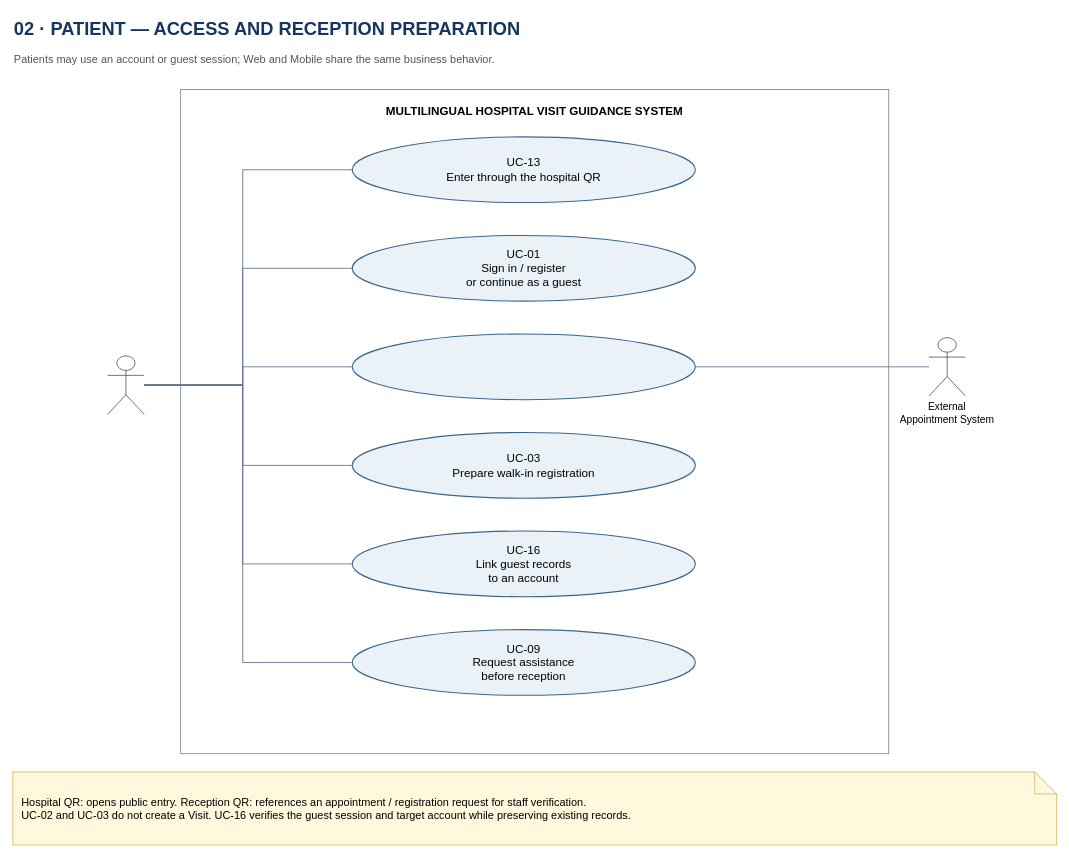
This 1069x858 diagram has some shape labels left out. The shapes that lost their labels are listed below. From the top down, each one's centre as x and y in pixels, then its label:
At point (125, 384): "Patient guest / account".
At point (523, 366): "UC-02 Retrieve and confirm an existing appointment (reception preparation)".
